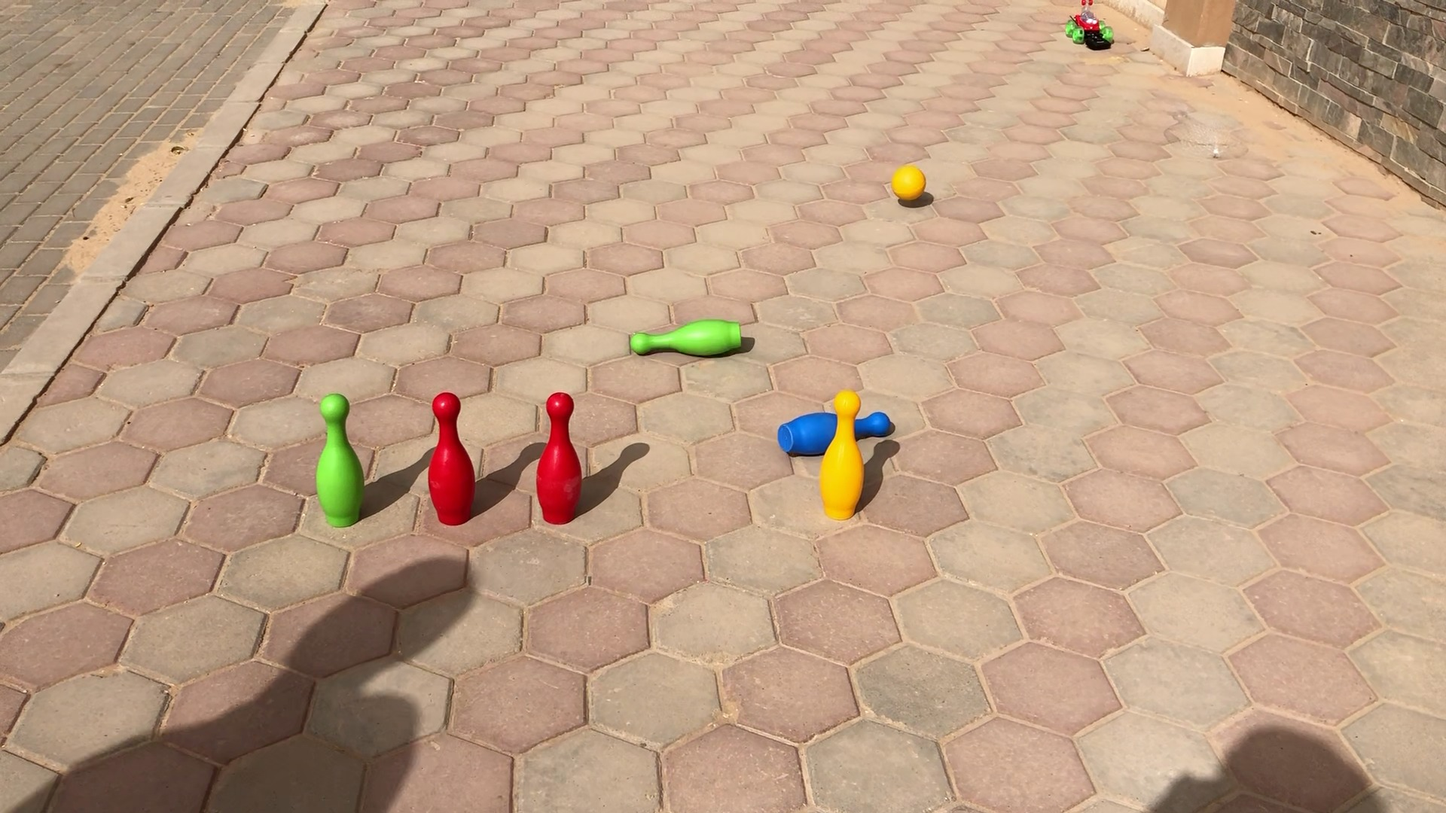bowling-pin: (816, 382, 866, 521), (311, 394, 363, 525), (425, 392, 475, 524), (536, 390, 583, 524), (775, 411, 892, 457), (626, 320, 751, 358)
